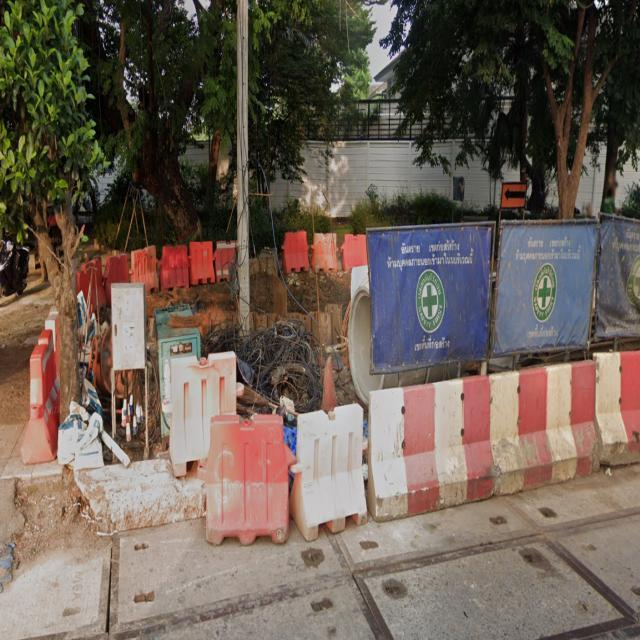fallen_object: (470, 339, 640, 497), (342, 359, 513, 506), (183, 413, 297, 554), (273, 392, 370, 554), (0, 286, 92, 436), (262, 222, 386, 303), (146, 353, 244, 442), (83, 240, 238, 291)
